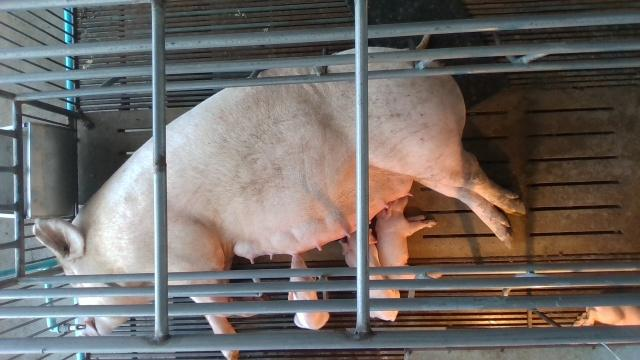piglet: (376, 195, 441, 280), (341, 227, 399, 322), (286, 253, 330, 330), (575, 302, 640, 328)
sow-sleep-lactate: (34, 36, 525, 360)
